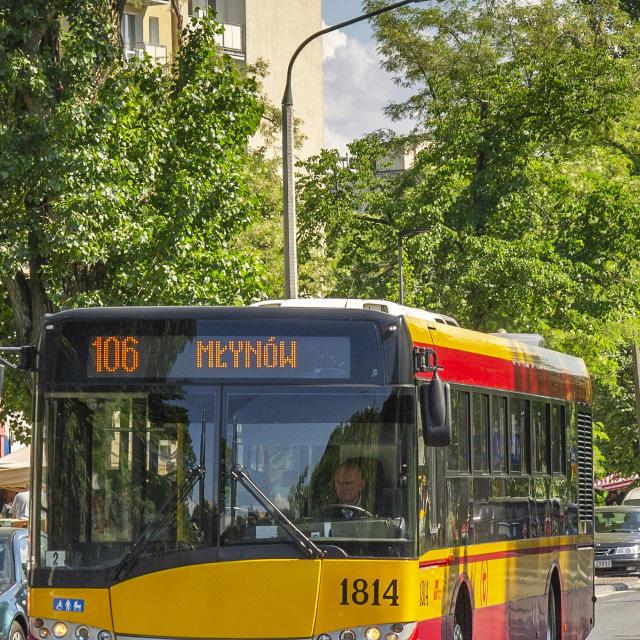Bus: (28, 301, 594, 640)
Electric pole: (282, 0, 426, 299)
